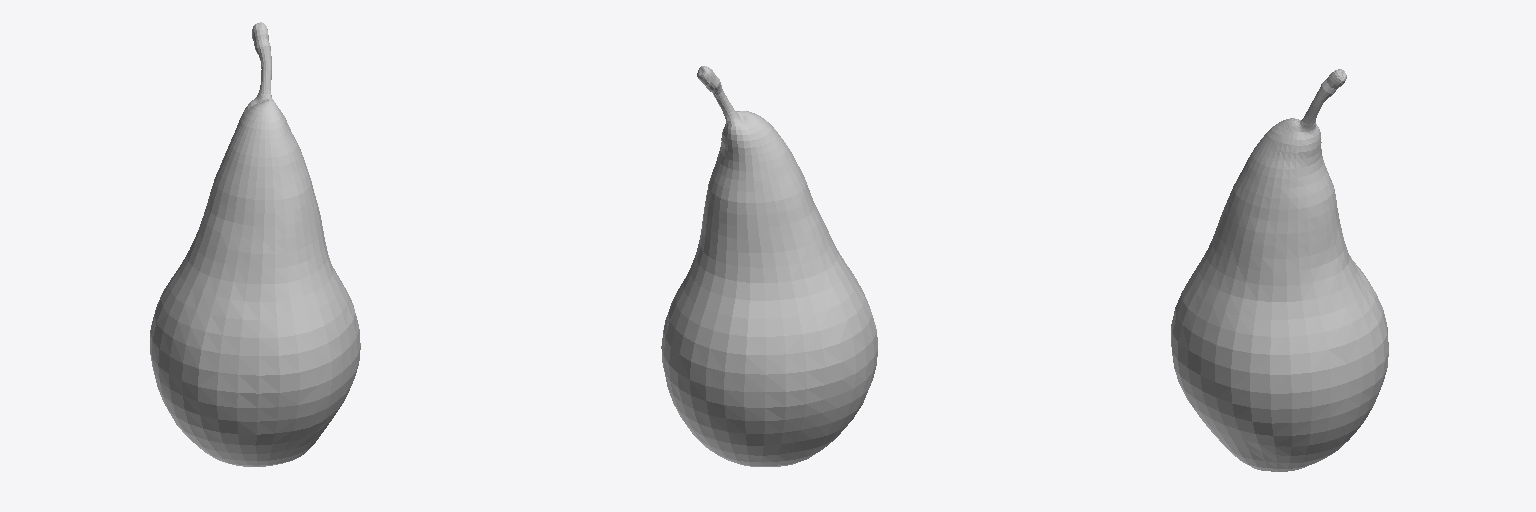
3 renders of one model, left to right at view 1: azimuth 30°, elevation 25°; view 2: azimuth 150°, elevation 25°; view 3: azimuth 270°, elevation 25°, orthographic.
Parts seen in each view (by area): view 1: Pear_02_MESH_Pear_02_SCAN_recontour.003; view 2: Pear_02_MESH_Pear_02_SCAN_recontour.003; view 3: Pear_02_MESH_Pear_02_SCAN_recontour.003.
Part boxes in pixels (bbox=[...]): Pear_02_MESH_Pear_02_SCAN_recontour.003: bbox=[150, 22, 360, 466]; Pear_02_MESH_Pear_02_SCAN_recontour.003: bbox=[661, 66, 877, 466]; Pear_02_MESH_Pear_02_SCAN_recontour.003: bbox=[1171, 69, 1388, 471].
Size of the model in its own units: 3.7 by 7.72 by 3.76.